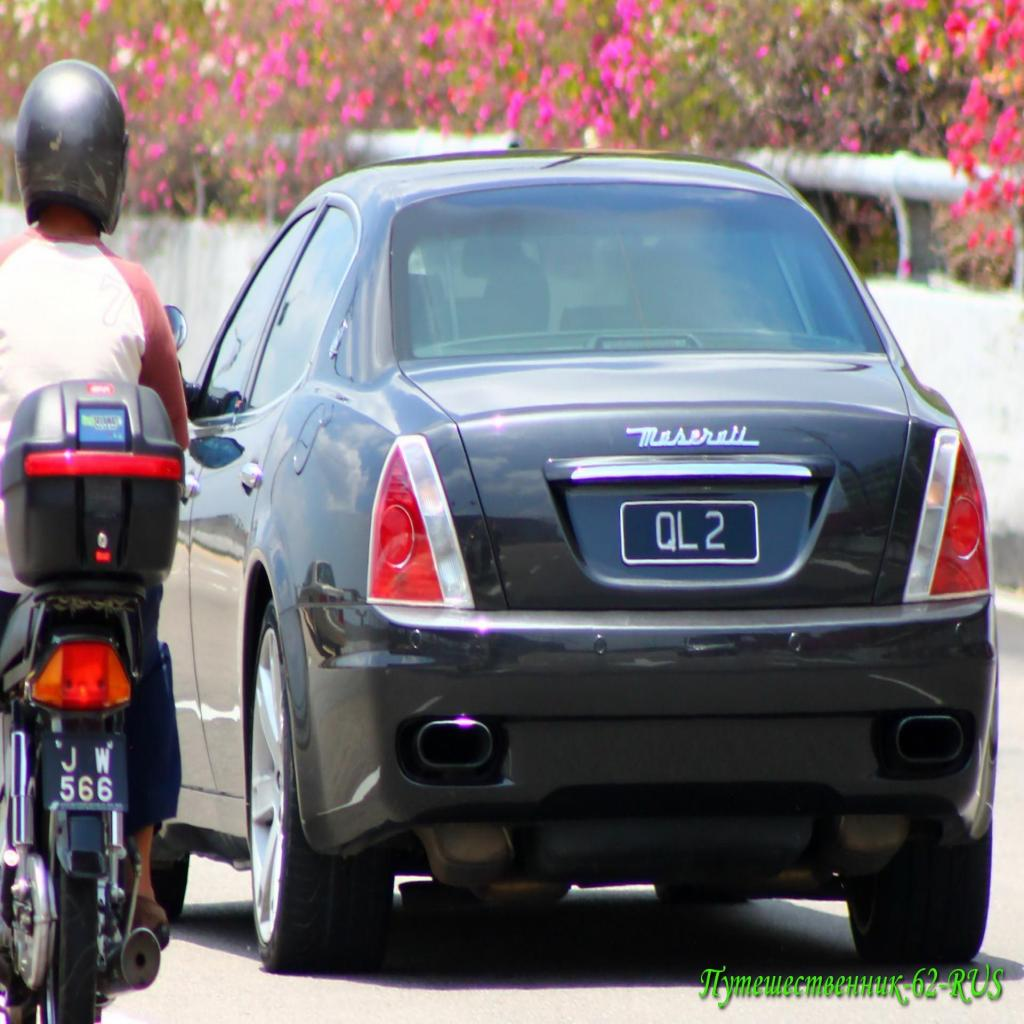car: (157, 151, 996, 969)
car plate: (620, 499, 759, 562)
